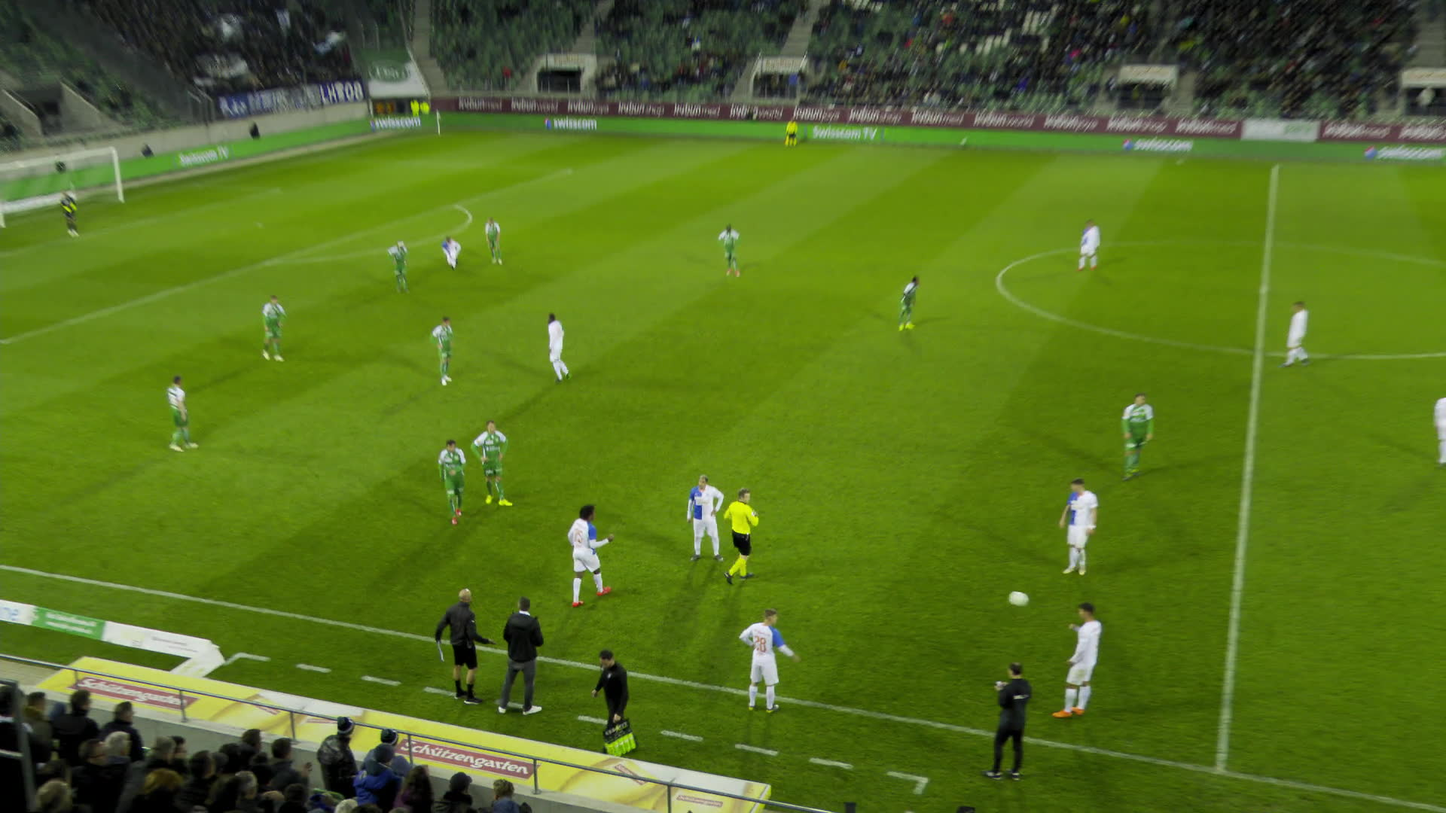ball: (1014, 593, 1033, 609)
player: (740, 605, 808, 712), (1061, 599, 1110, 717), (566, 498, 613, 604), (1063, 474, 1109, 575), (468, 414, 511, 503), (688, 470, 725, 559), (1131, 386, 1164, 473), (435, 431, 465, 519), (160, 368, 191, 448), (1279, 300, 1311, 369), (548, 306, 574, 376), (255, 285, 281, 355), (428, 307, 451, 377), (720, 215, 744, 268), (1082, 212, 1106, 265), (384, 231, 407, 285), (903, 269, 926, 322), (51, 178, 72, 230), (483, 209, 502, 258), (1433, 397, 1445, 463), (438, 227, 458, 260)
referee: (721, 484, 761, 586), (786, 108, 801, 139)
